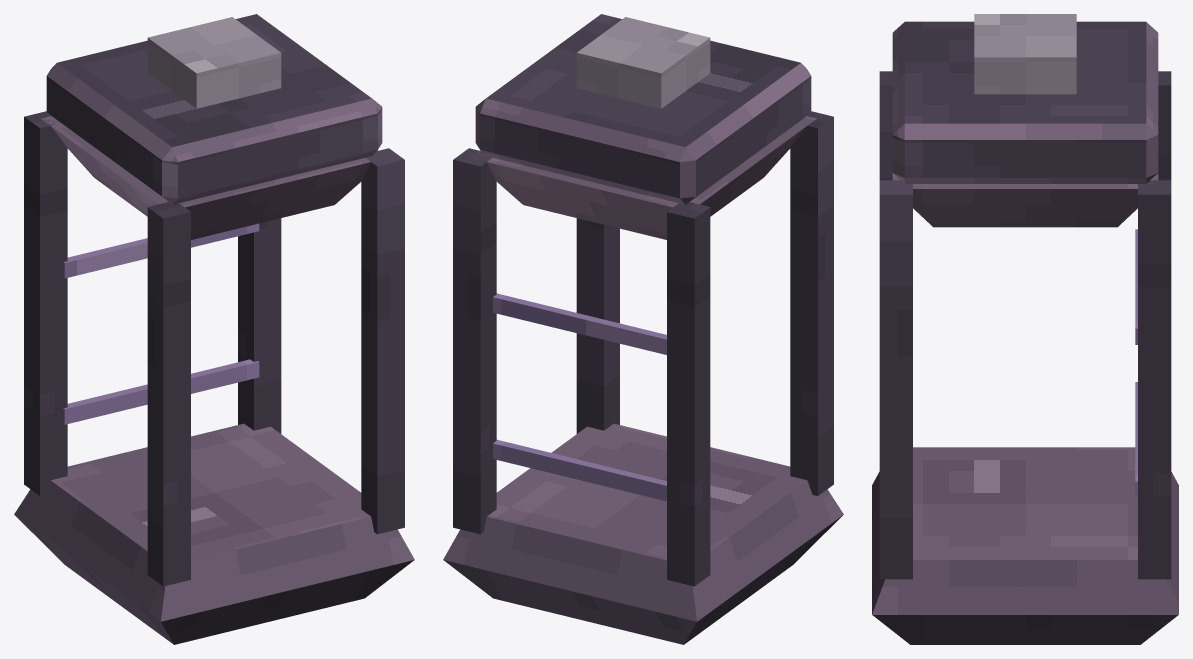
File: glow_cell_body.obj
The picture shows the model from 3 angles, left to right: view 1: azimuth 30°, elevation 25°; view 2: azimuth 150°, elevation 25°; view 3: azimuth 270°, elevation 25°; orthographic projection. The views are drawn at different scales.
Visible parts, largest first — view 1: model; view 2: model; view 3: model.
Boxes of the visible parts, x1,y1,x2,y2 form: model: [14, 14, 414, 644]; model: [443, 14, 843, 644]; model: [872, 14, 1178, 644].
Bounding box in the file's own units: 0.375 × 0.7563 × 0.375.
